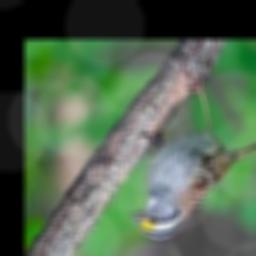Sparrow: (131, 72, 256, 239)
